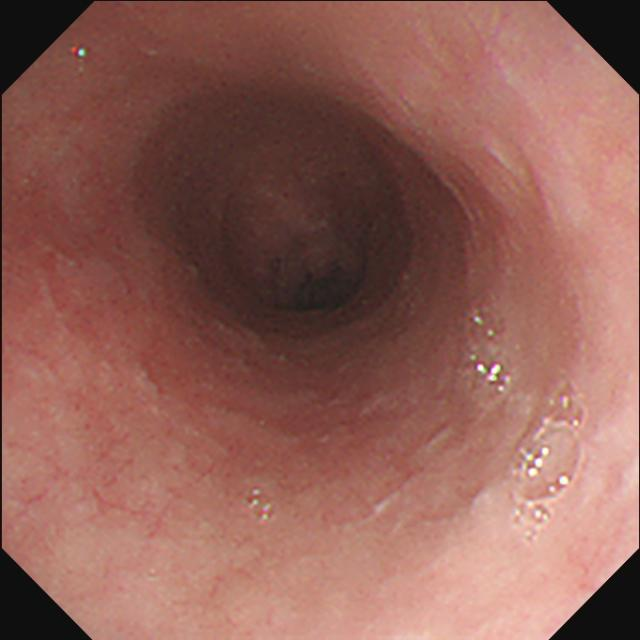E: (215, 151, 381, 315)
T: (513, 377, 589, 542), (465, 301, 514, 406), (245, 484, 277, 528)
